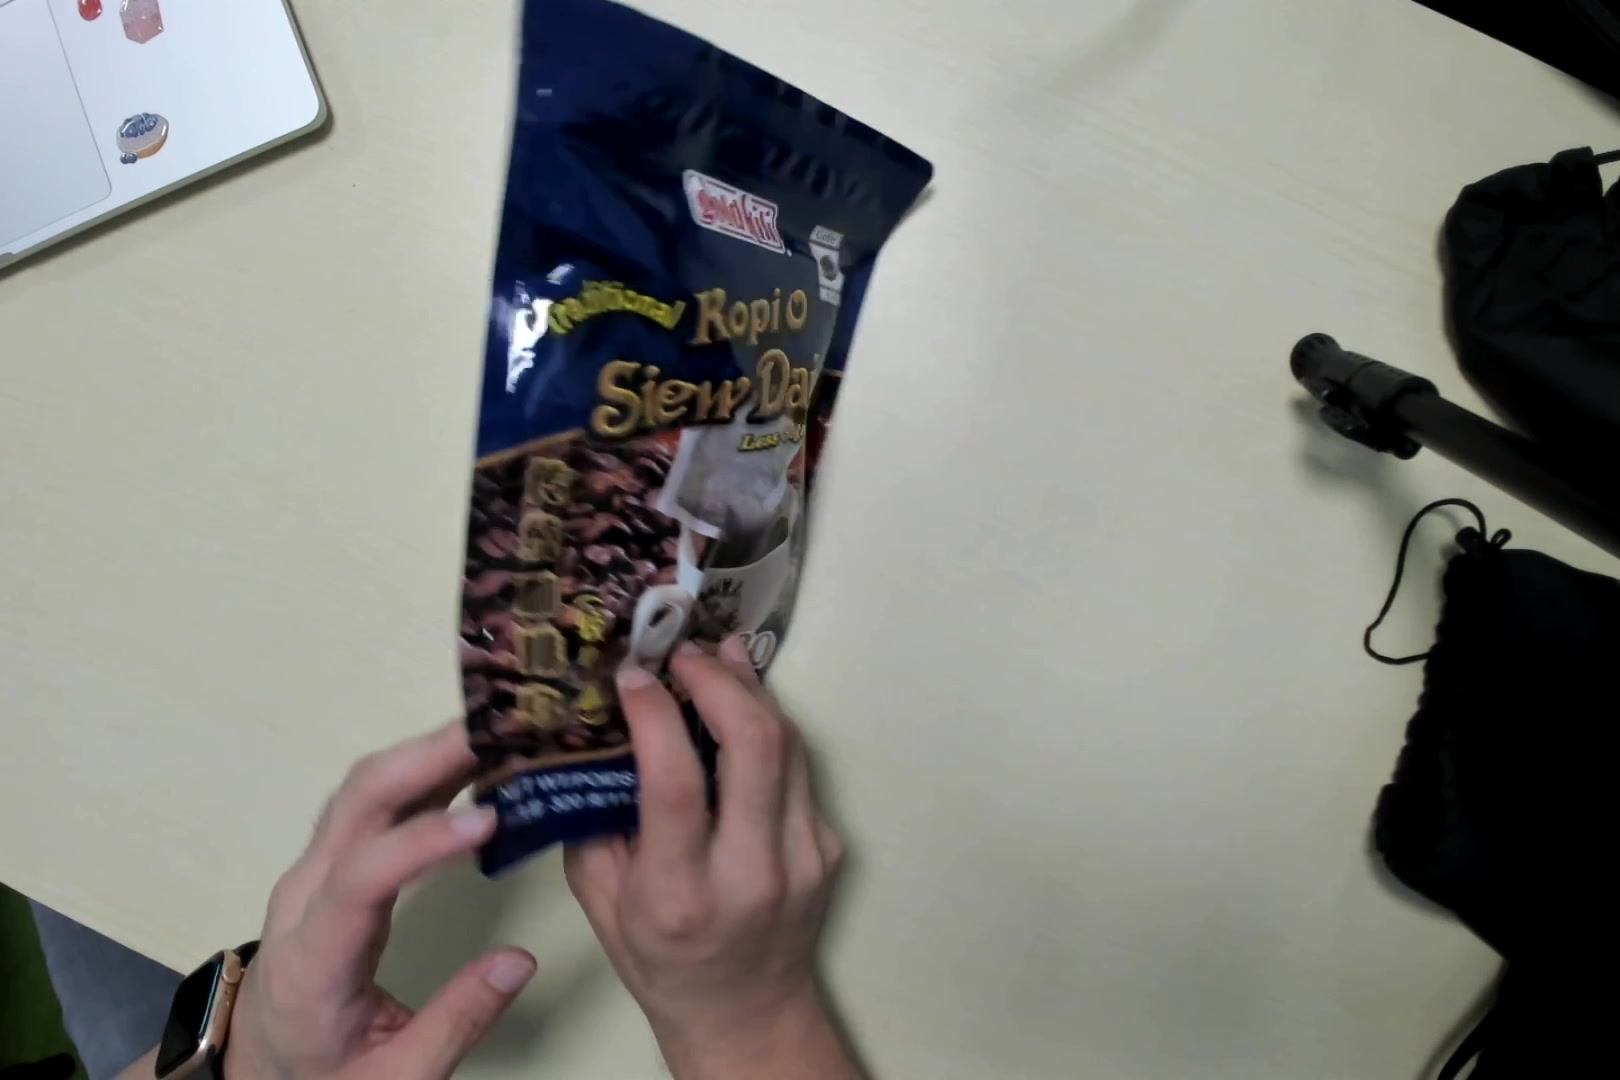Coffee(Powder)_300-399g_Halal_Healthy: (465, 4, 863, 855)
